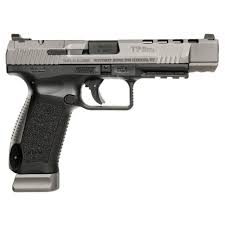gun: (6, 30, 221, 195)
